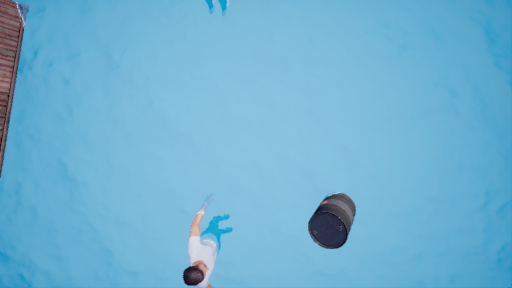person: (168, 189, 230, 286)
